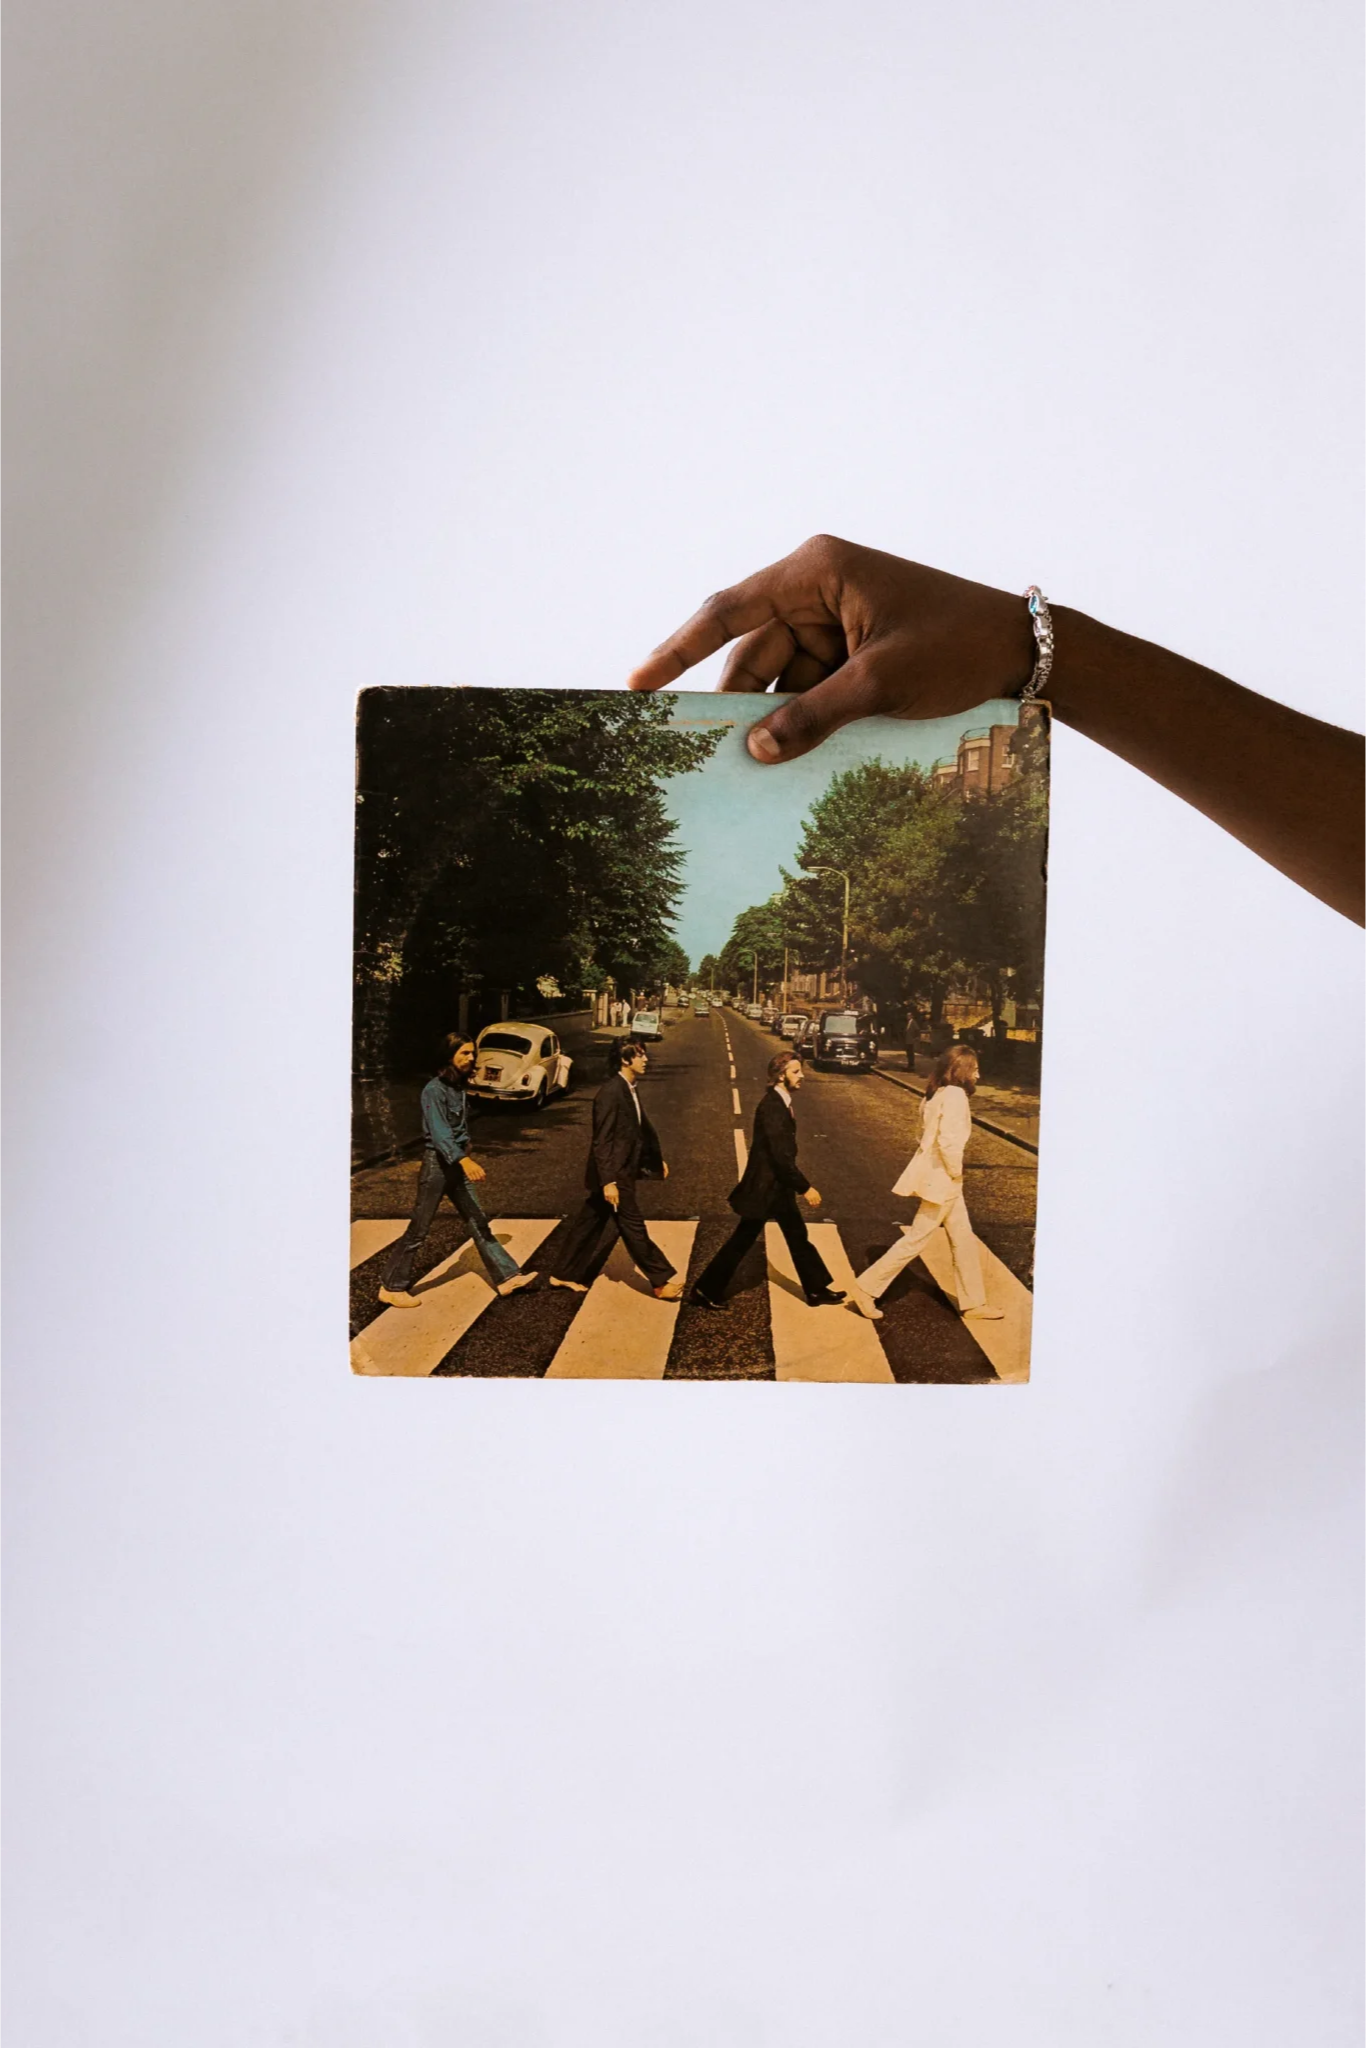the beatles_abbey road: (345, 674, 1053, 1396)
